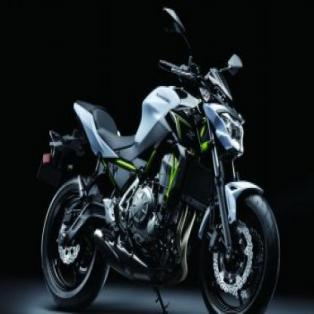Motocicleta: (33, 3, 282, 313)
